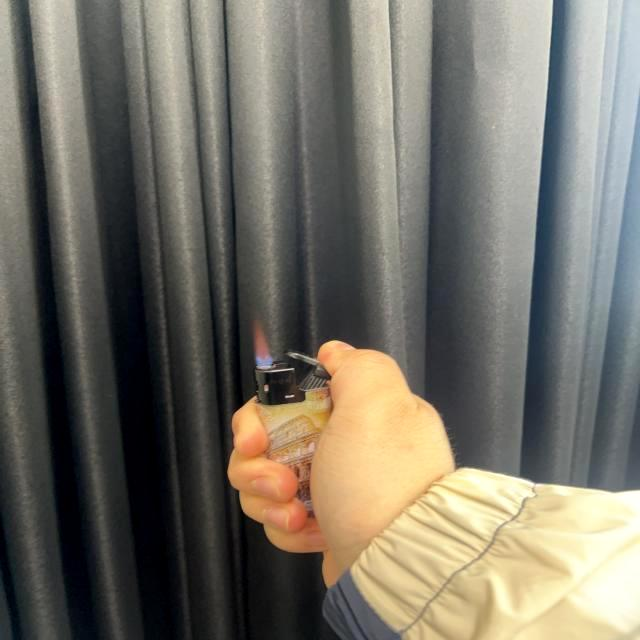fire: (254, 316, 276, 372)
